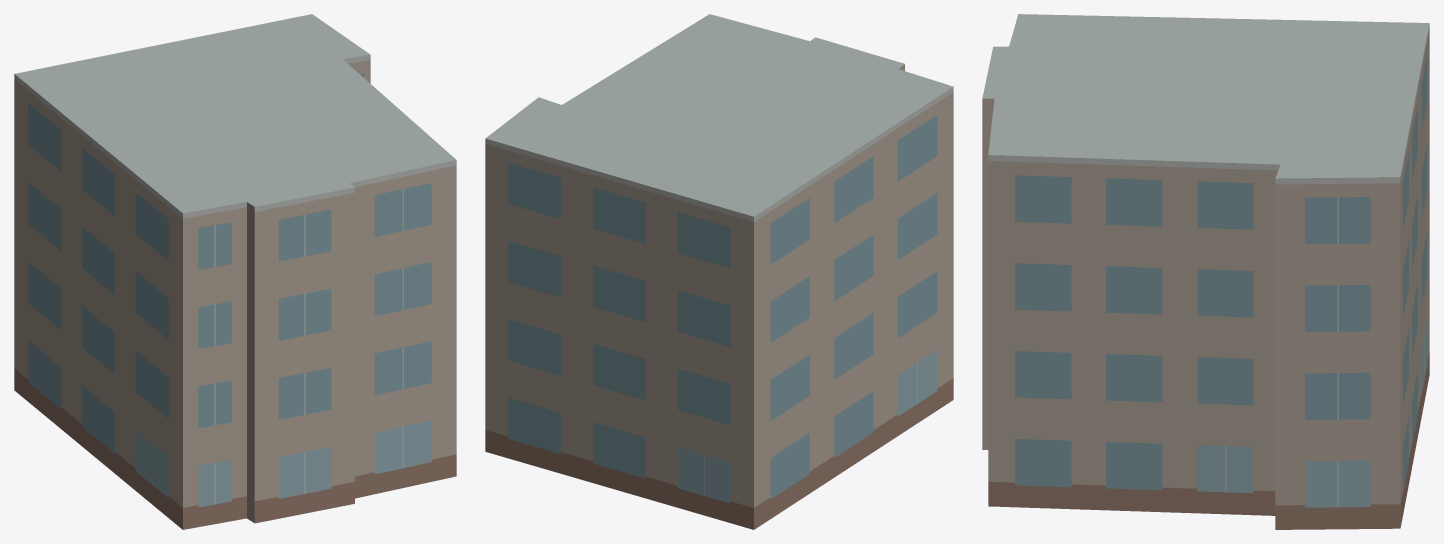
The model's file is survey-upis-32984473.glb.
3 renders of one model, left to right at view 1: azimuth 30°, elevation 25°; view 2: azimuth 150°, elevation 25°; view 3: azimuth 270°, elevation 25°, orthographic. The views are drawn at different scales.
Parts seen in each view (by area): view 1: survey-upis-32984473.tmp; view 2: survey-upis-32984473.tmp; view 3: survey-upis-32984473.tmp.
Part boxes in pixels (x1,y1,x2,y2): survey-upis-32984473.tmp: (14,14,456,529); survey-upis-32984473.tmp: (485,14,953,529); survey-upis-32984473.tmp: (982,14,1429,529).
Size of the model in its own units: 14.46 by 14.4 by 16.62.
